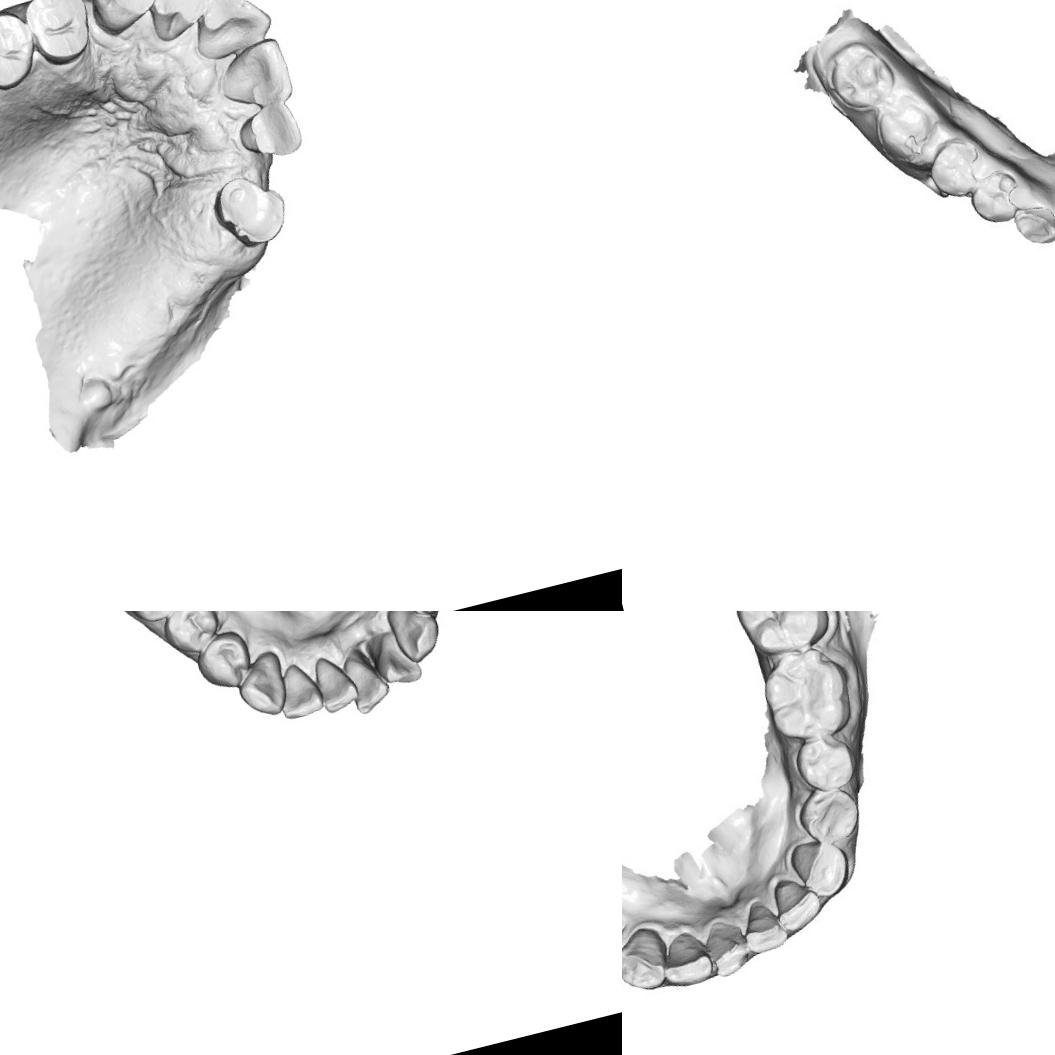canine: (229, 646, 295, 723), (788, 832, 855, 903), (622, 919, 675, 998), (381, 611, 448, 668), (81, 0, 167, 38), (1009, 202, 1055, 250)
incisor: (209, 35, 300, 120), (184, 0, 280, 64), (234, 97, 308, 167), (365, 625, 426, 691), (269, 656, 327, 724), (306, 648, 362, 718), (340, 646, 394, 717), (657, 929, 717, 992), (769, 870, 826, 936), (143, 0, 219, 46), (701, 918, 756, 980), (737, 899, 791, 957)
molar: (754, 644, 857, 746), (823, 35, 903, 113), (866, 92, 943, 164), (728, 611, 831, 662)
premolar: (206, 166, 293, 256), (20, 0, 98, 70), (786, 728, 861, 799), (792, 781, 864, 854), (188, 623, 258, 696), (967, 164, 1027, 230), (151, 611, 227, 662), (926, 136, 988, 198), (0, 5, 42, 96)
